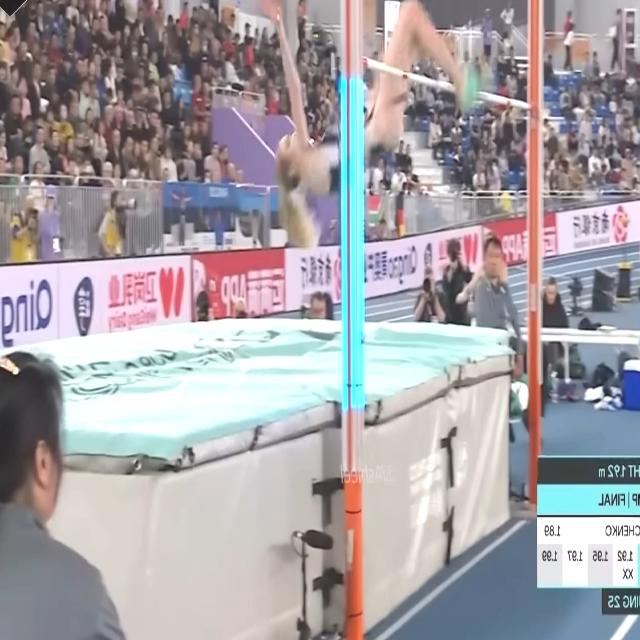jump: (261, 0, 488, 199)
